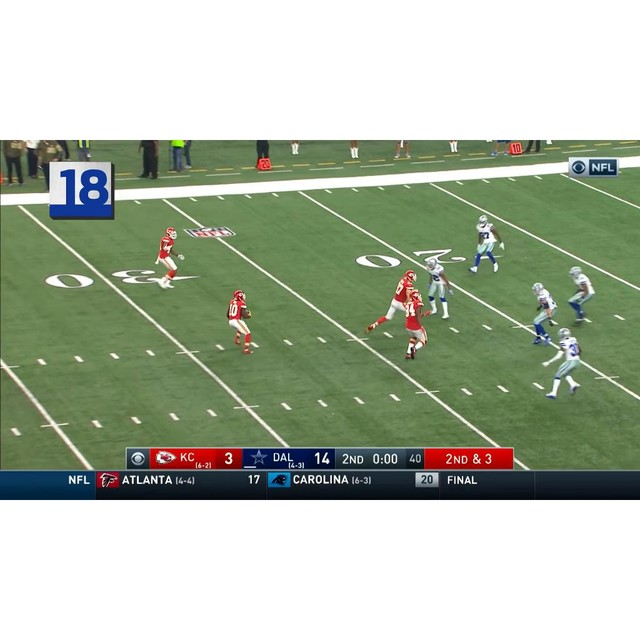american-football-player: (365, 270, 417, 336), (542, 328, 583, 399), (468, 215, 504, 273), (224, 290, 257, 353), (153, 227, 186, 289), (528, 282, 559, 344), (402, 291, 428, 359), (566, 266, 596, 324), (424, 257, 452, 318)
